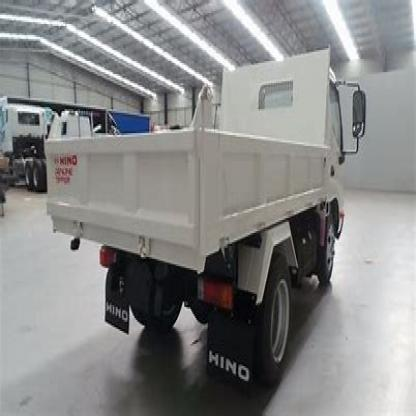dump_truck: (38, 37, 355, 388)
